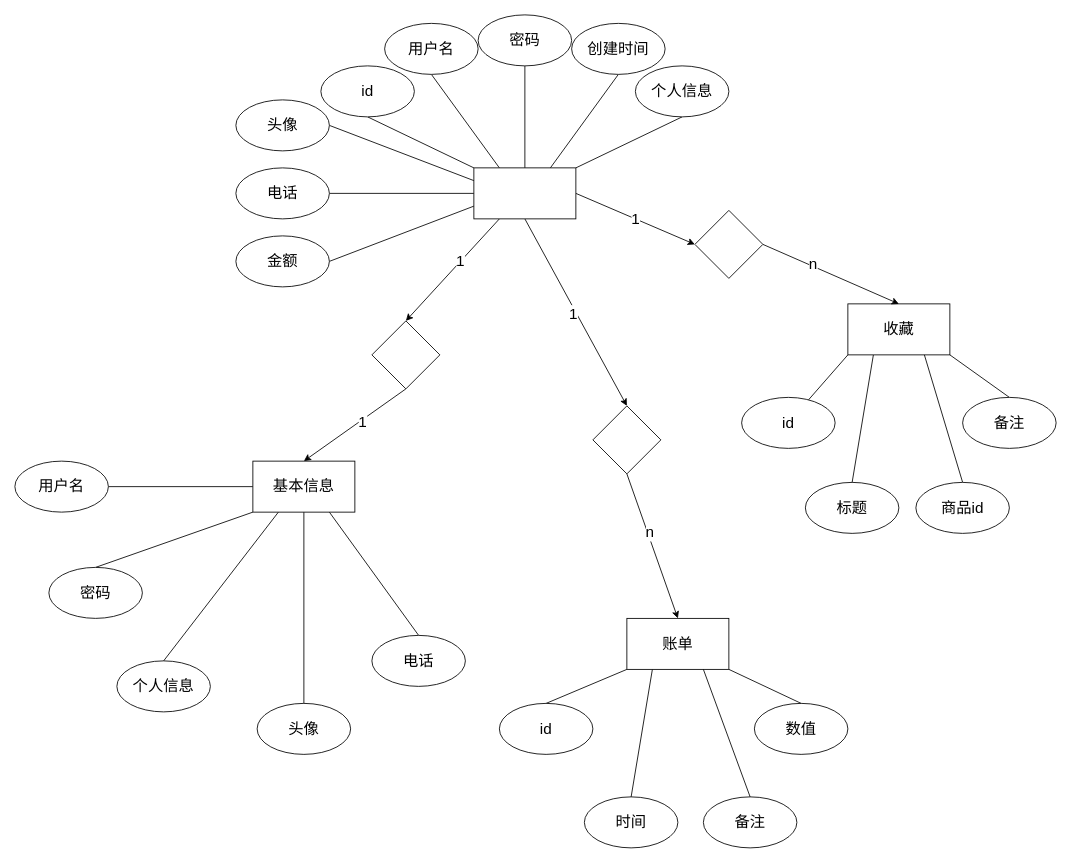
Image size: 1071x863. Some labels were removed from this diagram. Here are the shapes that lost their labels. From the top down, the centre of each, then its label:
point 524,193: 用户
point 728,244: 拥有
point 405,354: 更改
point 626,439: 充值
